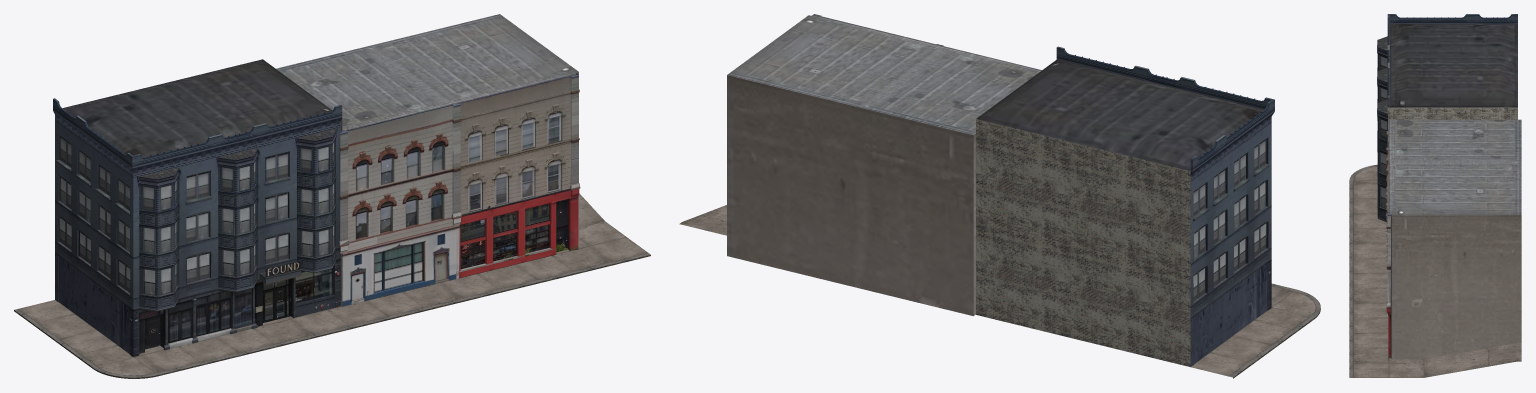
Rendered from realistic_chicago_buildings.glb.
3 views of the same model, side by side, from view 1: azimuth 30°, elevation 25°; view 2: azimuth 150°, elevation 25°; view 3: azimuth 270°, elevation 25° (orthographic). The views are drawn at different scales.
Parts seen in each view (by area): view 1: Object_6, Object_12, Object_4; view 2: Object_12, Object_8, Object_6, Object_4; view 3: Object_12, Object_6, Object_4, Object_8.
Boxes of the visible parts, x1,y1,x2,y2 form: Object_6: [53, 59, 342, 356]; Object_12: [276, 14, 580, 306]; Object_4: [14, 193, 650, 378]; Object_12: [727, 14, 1041, 316]; Object_8: [976, 119, 1190, 366]; Object_6: [976, 46, 1274, 366]; Object_4: [679, 205, 1320, 378]; Object_12: [1386, 119, 1521, 359]; Object_6: [1377, 14, 1517, 221]; Object_4: [1349, 164, 1521, 377]; Object_8: [1387, 107, 1517, 140].
Bounding box in the file's own units: 198 × 71.86 × 67.26.
Materials: 5 (5 with a texture image).
